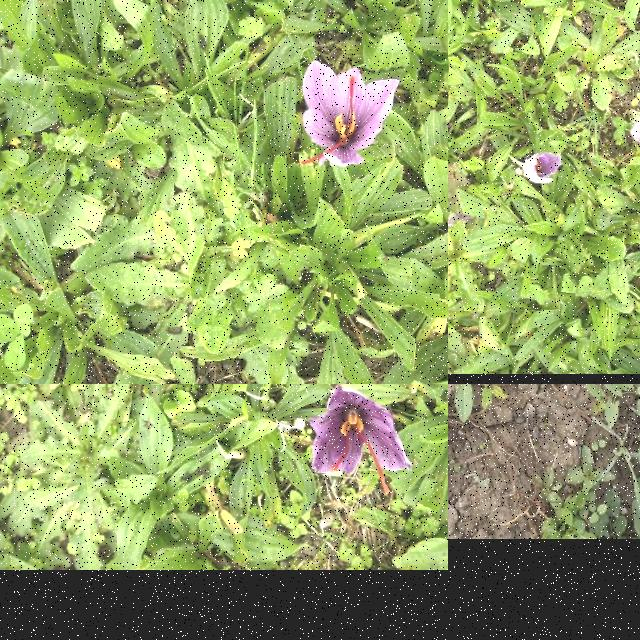flower: (305, 384, 413, 496), (302, 60, 401, 168), (523, 152, 563, 184), (630, 114, 640, 150)
